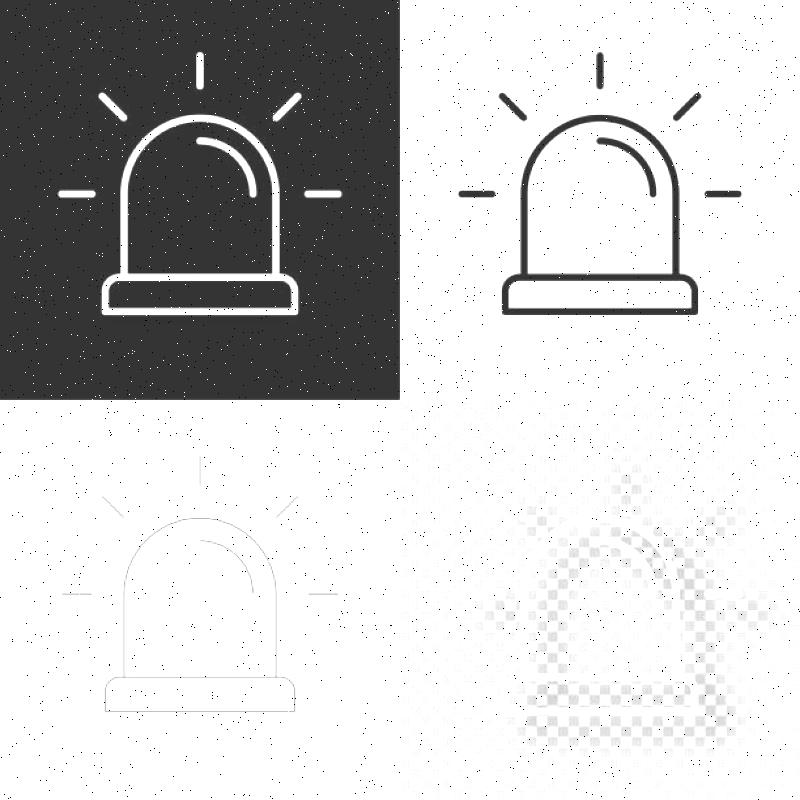AmbulanceSiren: (46, 70, 359, 350), (453, 99, 721, 351), (81, 482, 318, 734)
